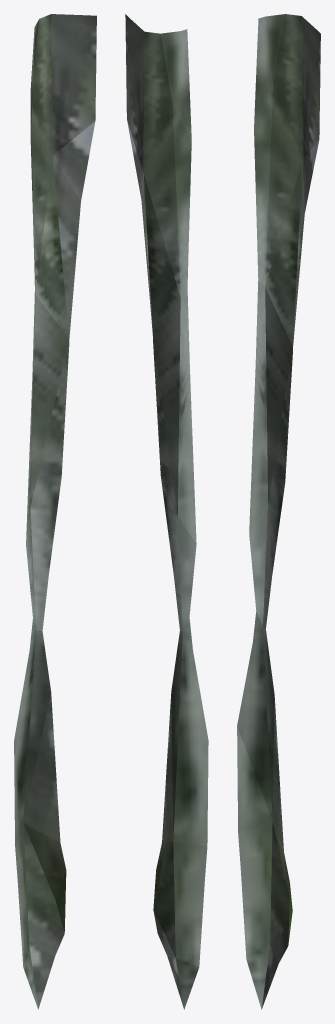
3 renders of one model, left to right at view 1: azimuth 30°, elevation 25°; view 2: azimuth 150°, elevation 25°; view 3: azimuth 330°, elevation 25°, orthographic.
Bounding box in the file's own units: 0.2267 × 2.56 × 0.0629.
1 material, 1 textured.
